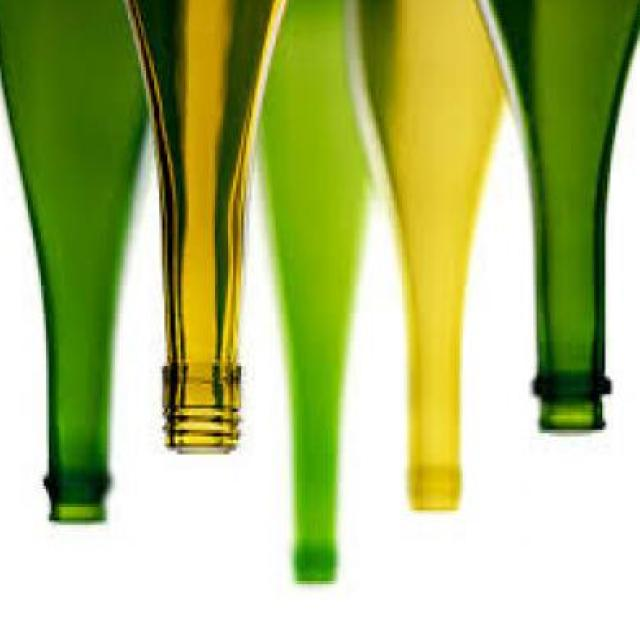kaca: (0, 0, 149, 525), (354, 0, 502, 514), (470, 1, 640, 437), (118, 1, 279, 454), (254, 0, 370, 584)
